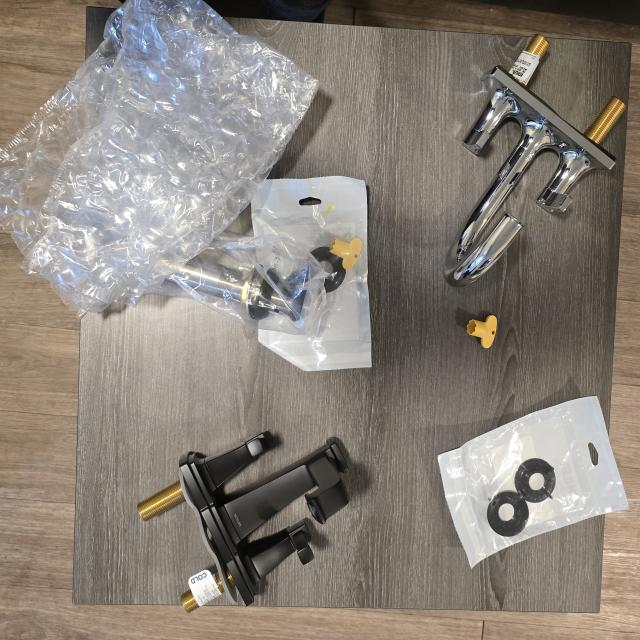10: (445, 35, 625, 286)
11o: (149, 234, 338, 335)
12o: (252, 176, 371, 370)
13: (438, 396, 628, 566)
9: (138, 432, 349, 612)
